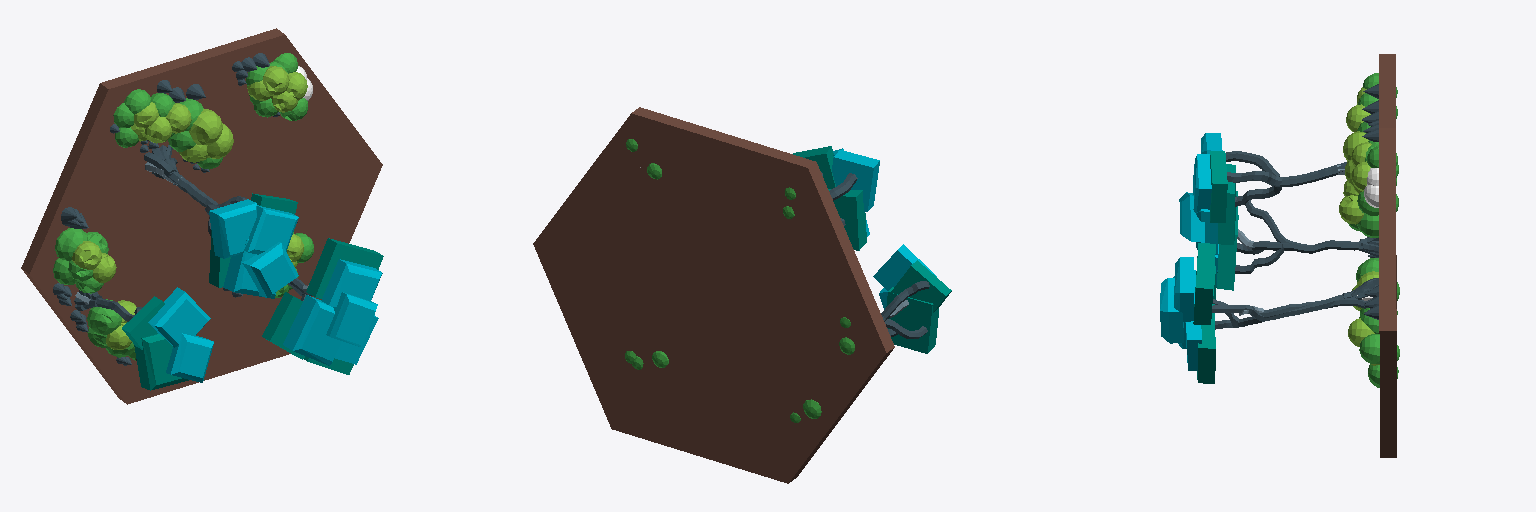
Rendered from game_world.obj.
The picture shows the model from 3 angles: view 1: azimuth 30°, elevation 25°; view 2: azimuth 150°, elevation 25°; view 3: azimuth 270°, elevation 25°; orthographic projection.
Visible parts, largest first — view 1: model; view 2: model; view 3: model.
Part boxes in pixels (left/top/right/bottom): model: left=21, top=28, right=383, bottom=404; model: left=533, top=107, right=951, bottom=483; model: left=1160, top=54, right=1399, bottom=457.
Size of the model in its own units: 14.47 by 12.99 by 8.52.